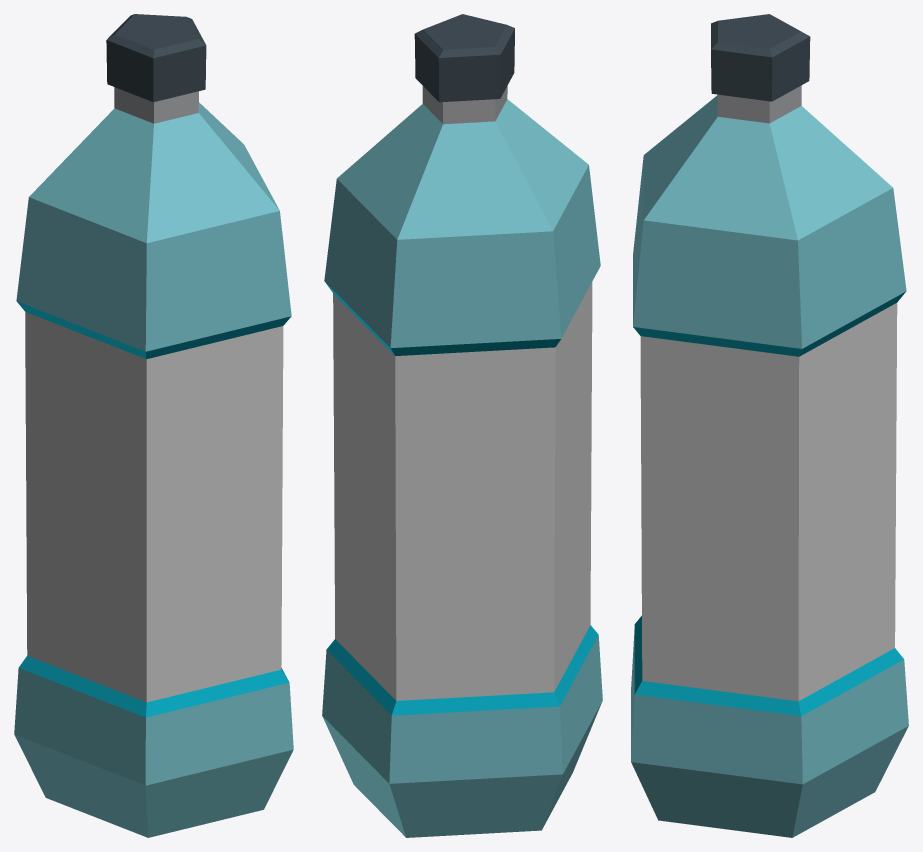
Rendered from Bottle_Plastic.fbx.
The picture shows the model from 3 angles, left to right: view 1: azimuth 30°, elevation 25°; view 2: azimuth 150°, elevation 25°; view 3: azimuth 270°, elevation 25°; orthographic projection.
Visible parts, largest first — view 1: Water_Bottle [Plastic]; view 2: Water_Bottle [Plastic]; view 3: Water_Bottle [Plastic].
Part boxes in pixels (x1,y1,x2,y2): Water_Bottle [Plastic]: (14, 14, 293, 837); Water_Bottle [Plastic]: (322, 14, 602, 837); Water_Bottle [Plastic]: (631, 14, 908, 837).
Size of the model in its own units: 15 by 45.29 by 15.
